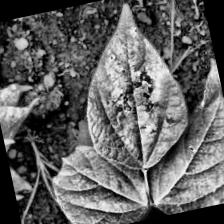ALS: (58, 0, 203, 169), (183, 57, 224, 200)
